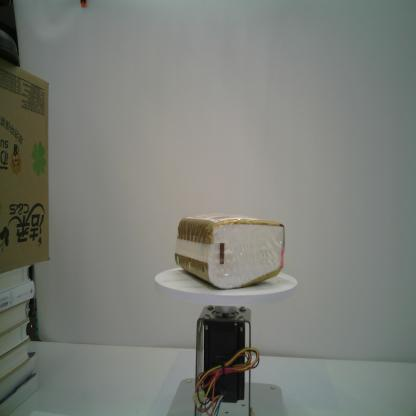Tissue: (174, 210, 286, 291)
